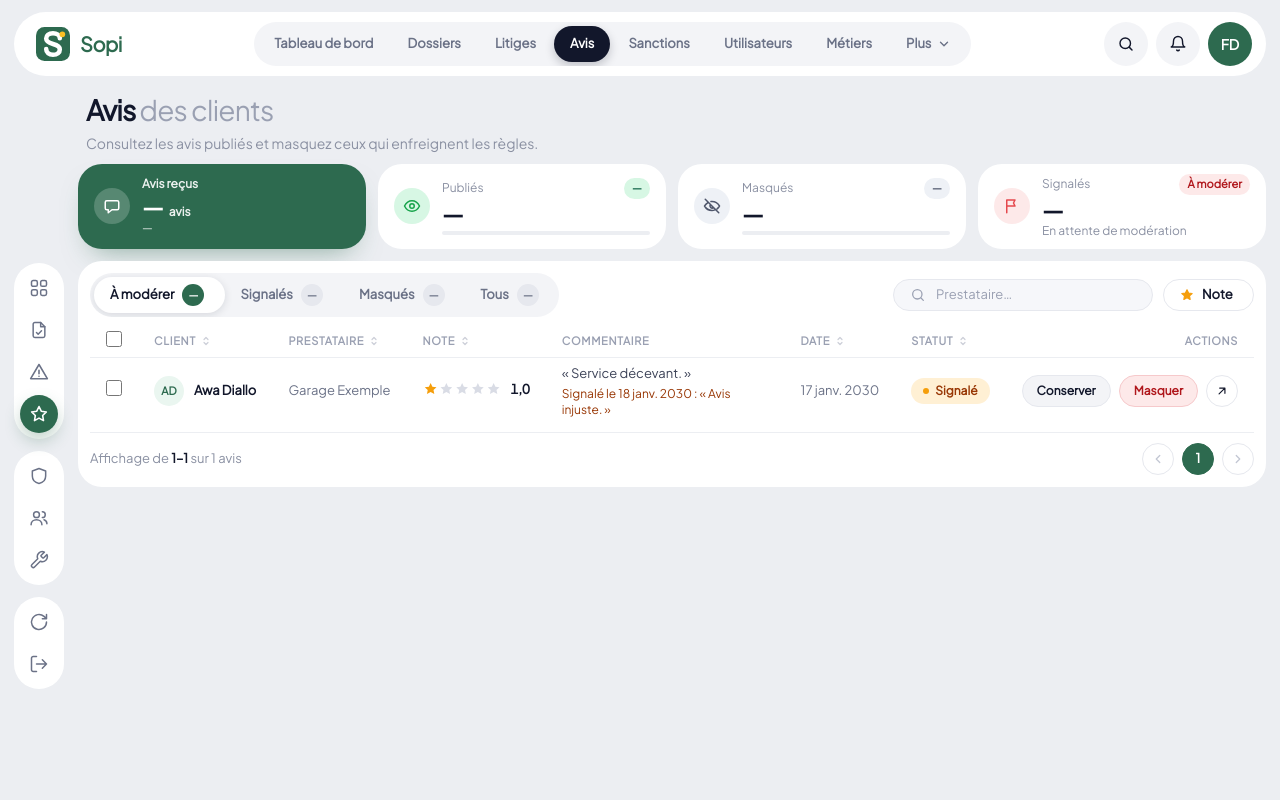
it: modération des avis › masque un avis : motif obligatoire, corps conforme (appel simulé)
Click the button with aria-label "Masquer l’avis de Awa Diallo" at (1158, 391), box [1119,375,1198,407]
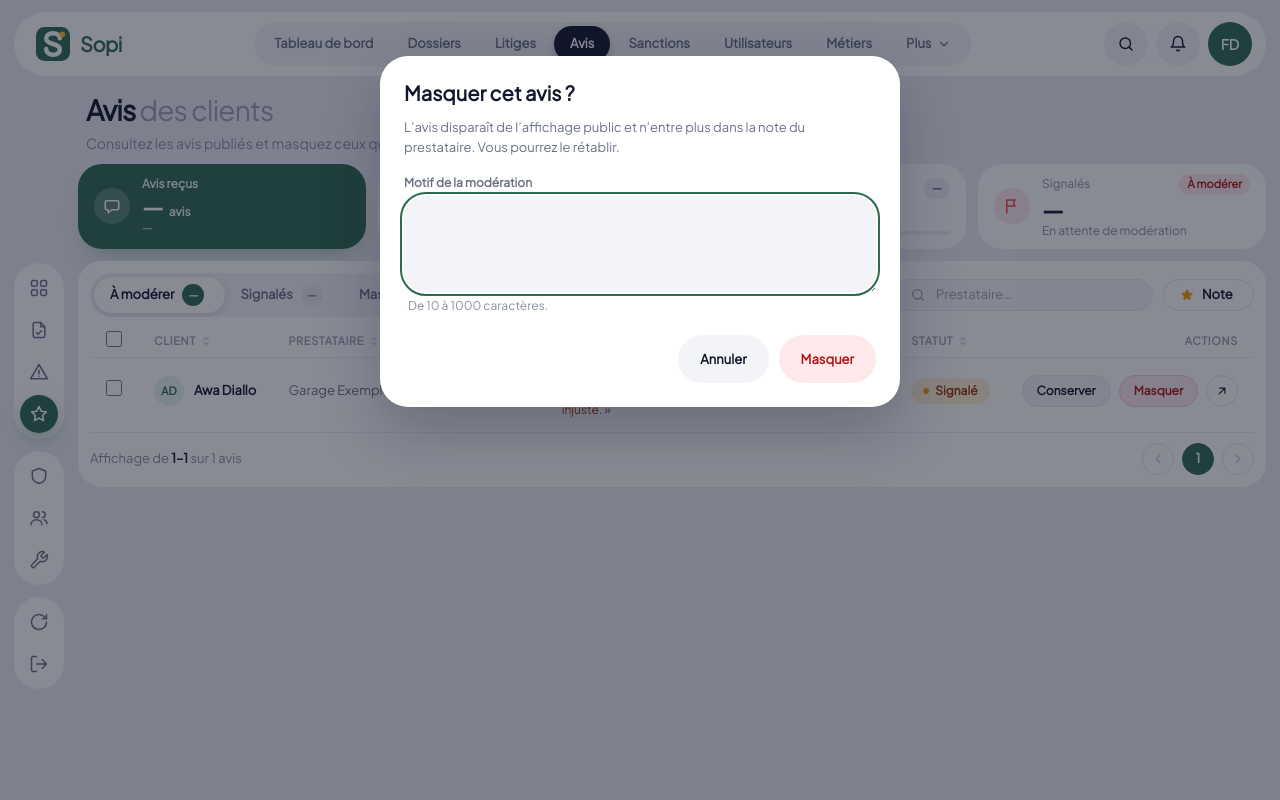
Type "Court" into the text box labelled "Motif de la modération" at (640, 244), box [404,196,876,292]
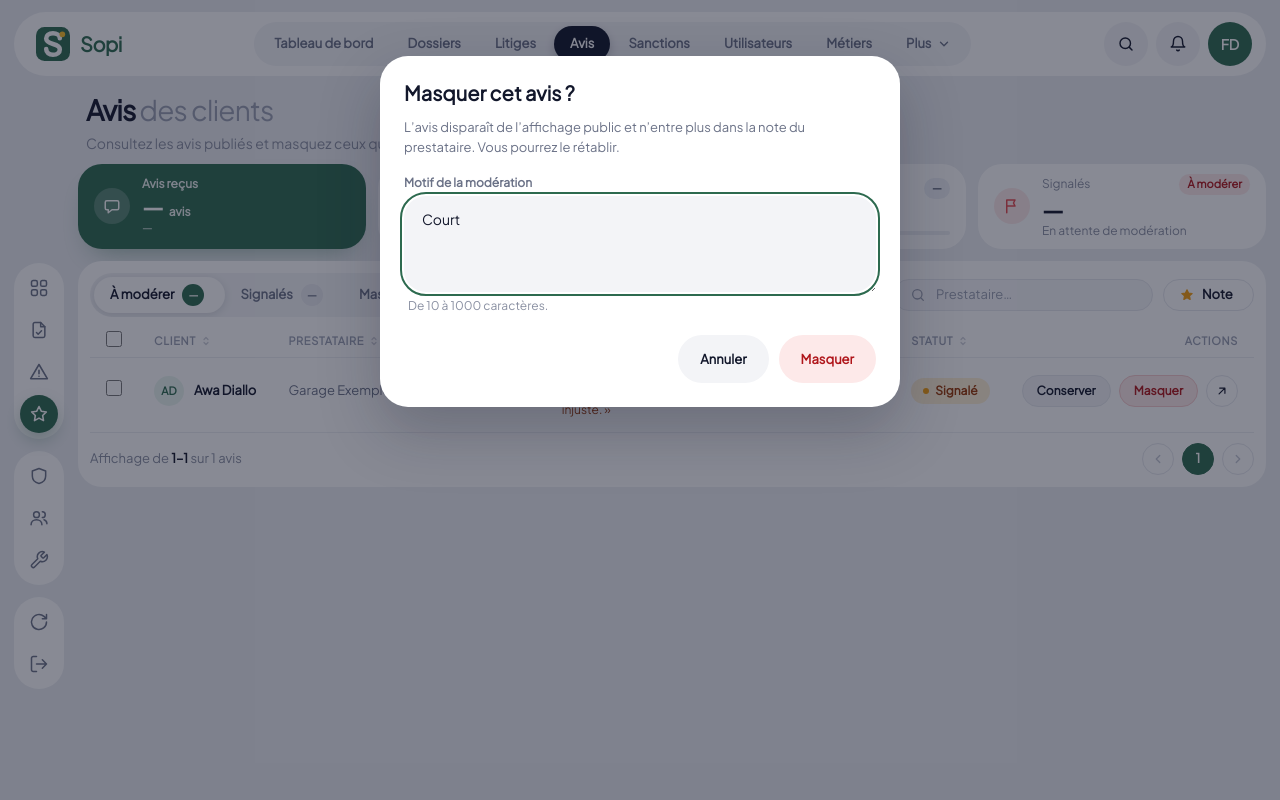
Click the button "Masquer" at (827, 359), box [779,335,876,383]
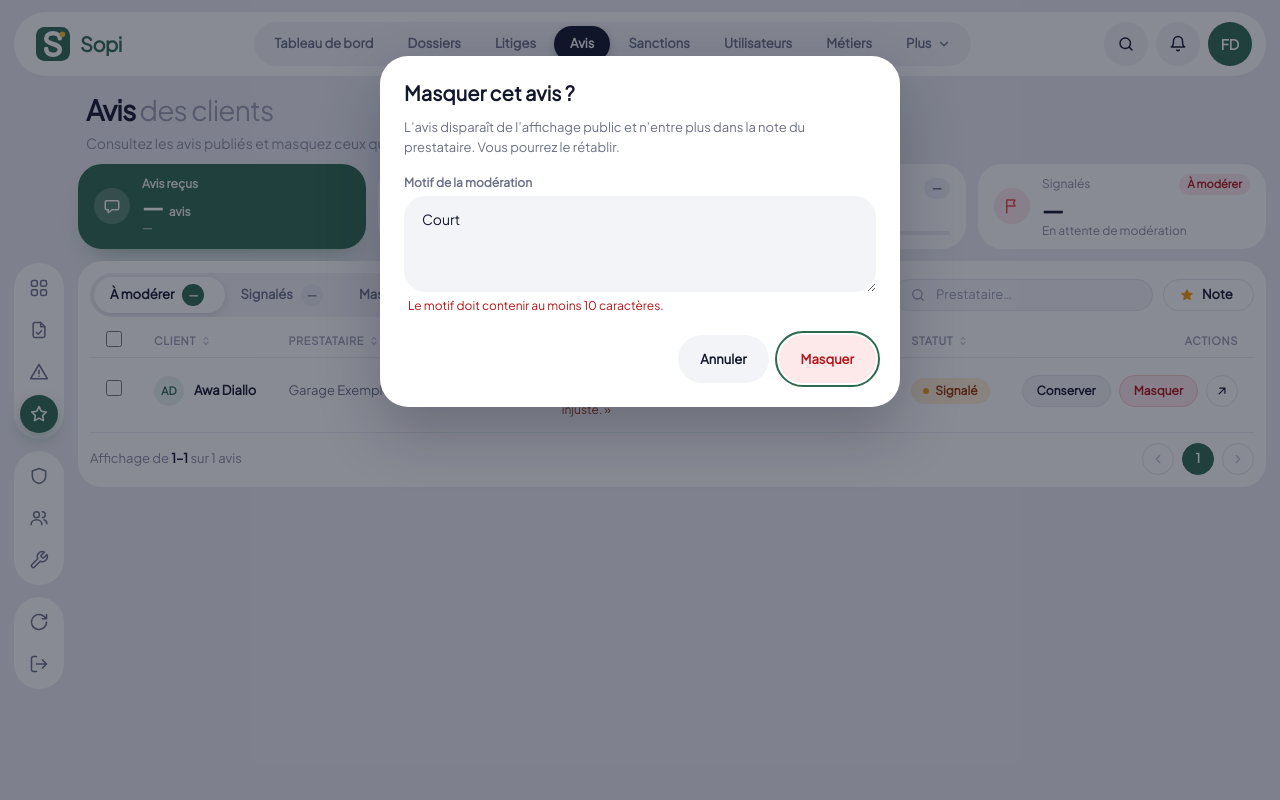
Expected: the text "Le motif doit contenir au moins 10 caractères." is shown, [408,298,664,313]
Type " : propos injurieux" into the text box labelled "Motif de la modération" at (640, 244), box [404,196,876,292]
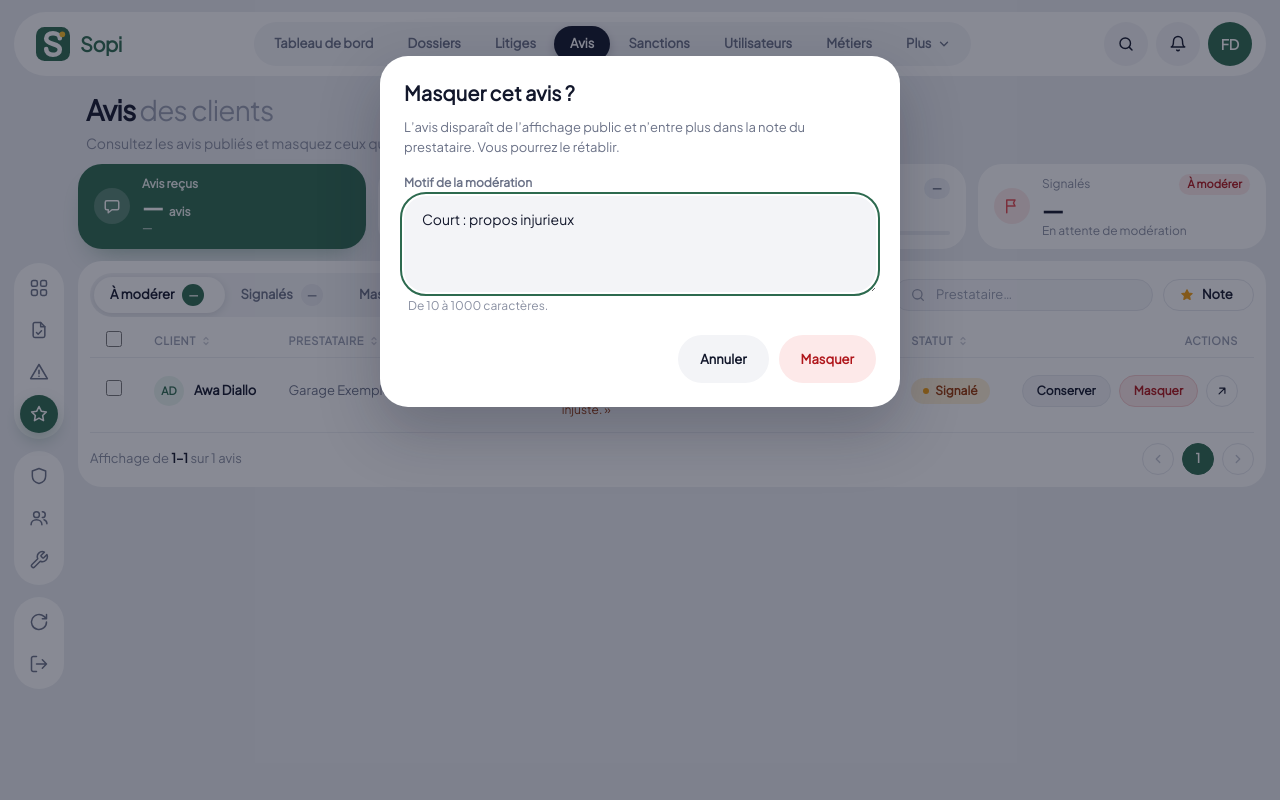
Click the button "Masquer" at (827, 359), box [779,335,876,383]
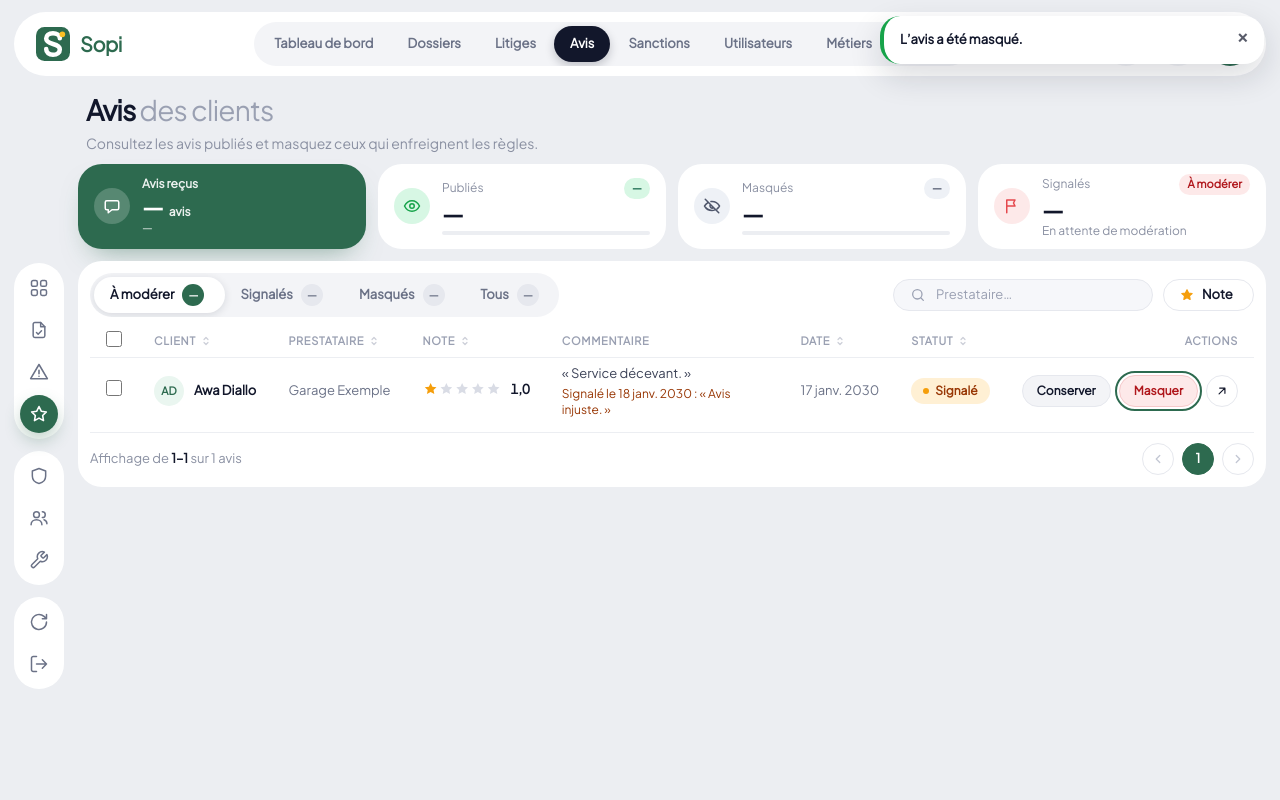
Expected: the text "L’avis a été masqué." is shown, [900,31,1023,47]
